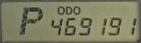1: (100, 17, 107, 35), (130, 17, 137, 35)
4: (50, 18, 63, 35)
6: (64, 17, 76, 35)
9: (78, 17, 92, 35), (108, 17, 122, 35)
X: (18, 6, 44, 35), (72, 6, 80, 15), (57, 6, 65, 14), (66, 6, 72, 14)
